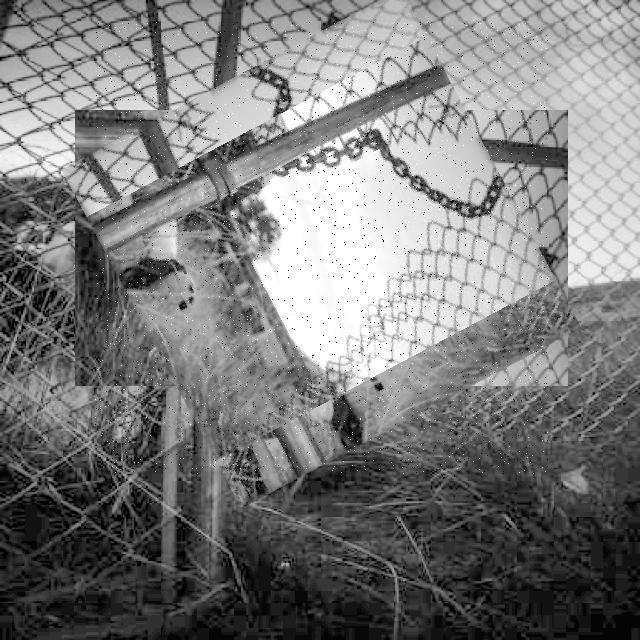anomaly-fence: (95, 22, 548, 474)
